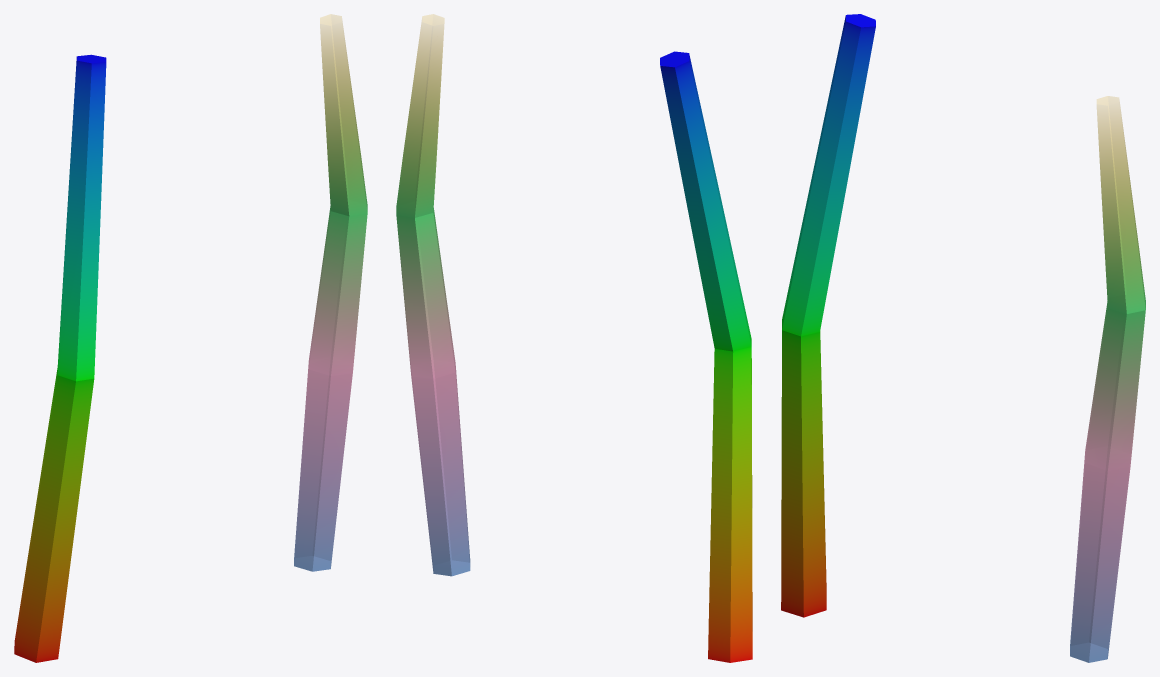
3 views of the same model, side by side, from view 1: azimuth 30°, elevation 25°; view 2: azimuth 150°, elevation 25°; view 3: azimuth 330°, elevation 25° (orthographic). The views are drawn at different scales.
Parts seen in each view (by area): view 1: Imported HAIR group 0, Imported HAIR group 1; view 2: Imported HAIR group 0, Imported HAIR group 1; view 3: Imported HAIR group 0, Imported HAIR group 1.
Boxes of the visible parts, x1,y1,x2,y2 form: Imported HAIR group 0: (14, 54, 106, 662); Imported HAIR group 1: (294, 14, 367, 571); Imported HAIR group 0: (660, 51, 752, 662); Imported HAIR group 1: (396, 14, 470, 576); Imported HAIR group 0: (781, 14, 875, 617); Imported HAIR group 1: (1070, 96, 1145, 662).
Size of the model in its own units: 0.9597 by 1.52 by 0.1953.
